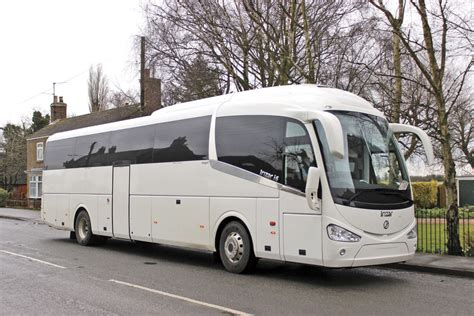bus: (46, 93, 421, 264)
